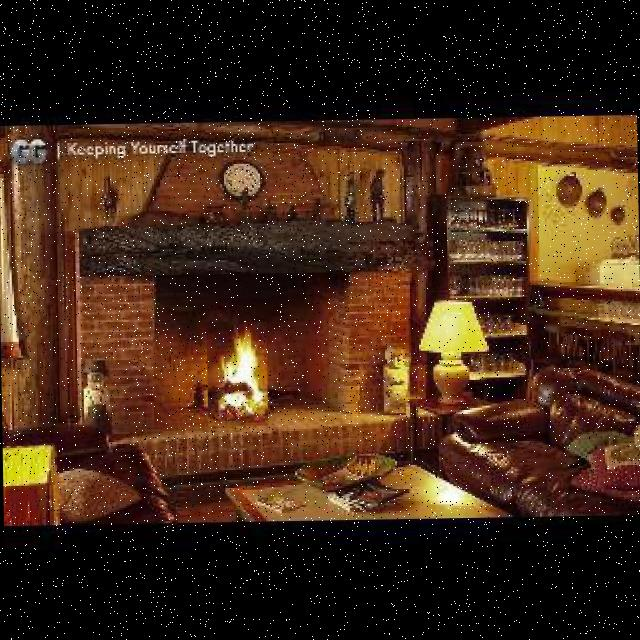fire: (206, 321, 268, 426)
